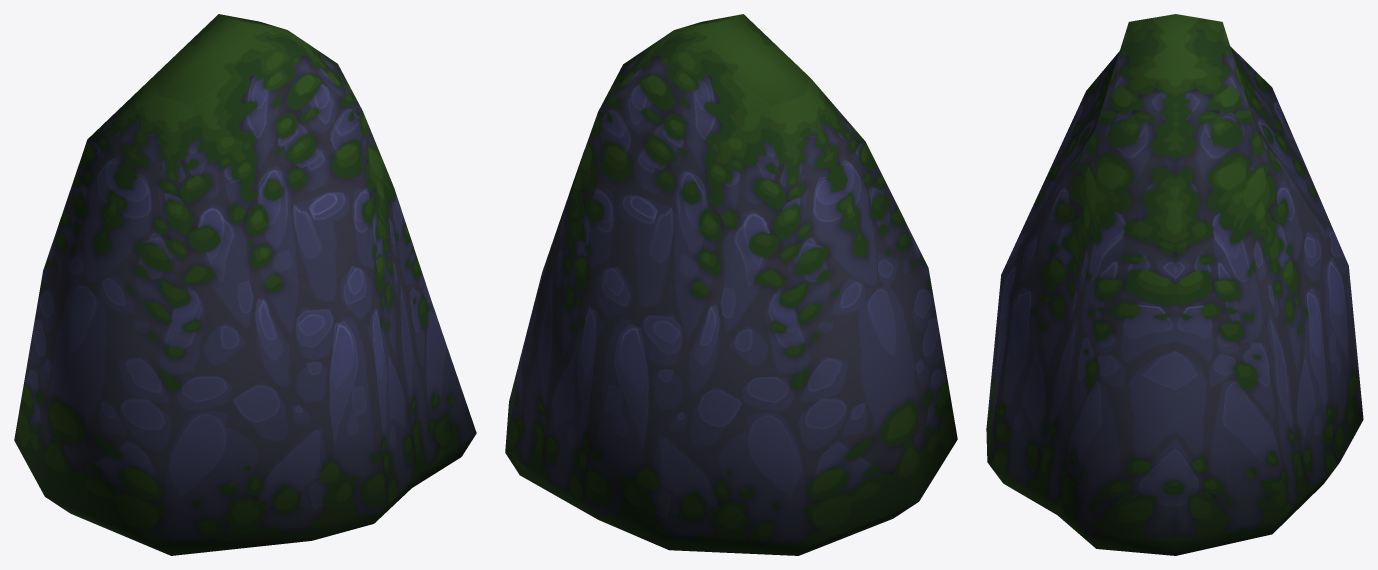
File: Rock_04e.FBX
3 renders of one model, left to right at view 1: azimuth 30°, elevation 25°; view 2: azimuth 150°, elevation 25°; view 3: azimuth 270°, elevation 25°, orthographic.
Parts seen in each view (by area): view 1: Rock_04e; view 2: Rock_04e; view 3: Rock_04e.
Part boxes in pixels (box(x1,y1,x2,y2)): Rock_04e: box(14, 14, 476, 555); Rock_04e: box(505, 14, 957, 555); Rock_04e: box(986, 14, 1363, 555).
Bounding box in the file's own units: 123 × 130 × 99.13.
